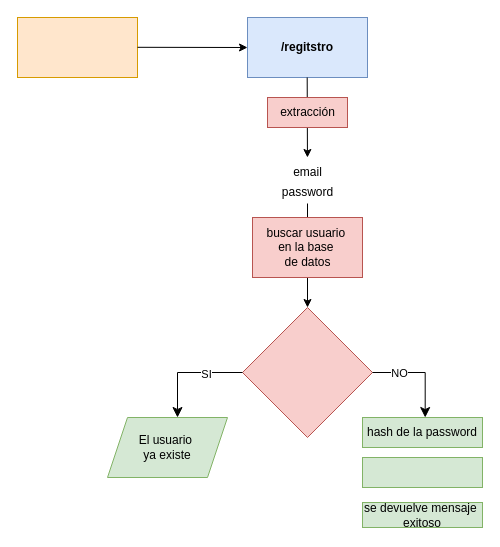
The diagram is 500 pixels wide and 547 high, and some of its shapes have lost their labels. The centre of each missing label's shape, as x and y in pixels:
request: point 77,47
se crea el nuevo usuario: point 422,472
verificacion de existencia de usuario: point 307,372
